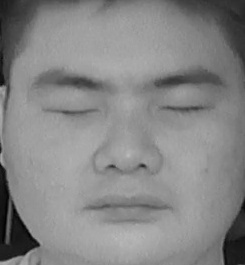blink: (42, 91, 101, 128), (161, 88, 217, 124)
mouth: (80, 184, 169, 229)
